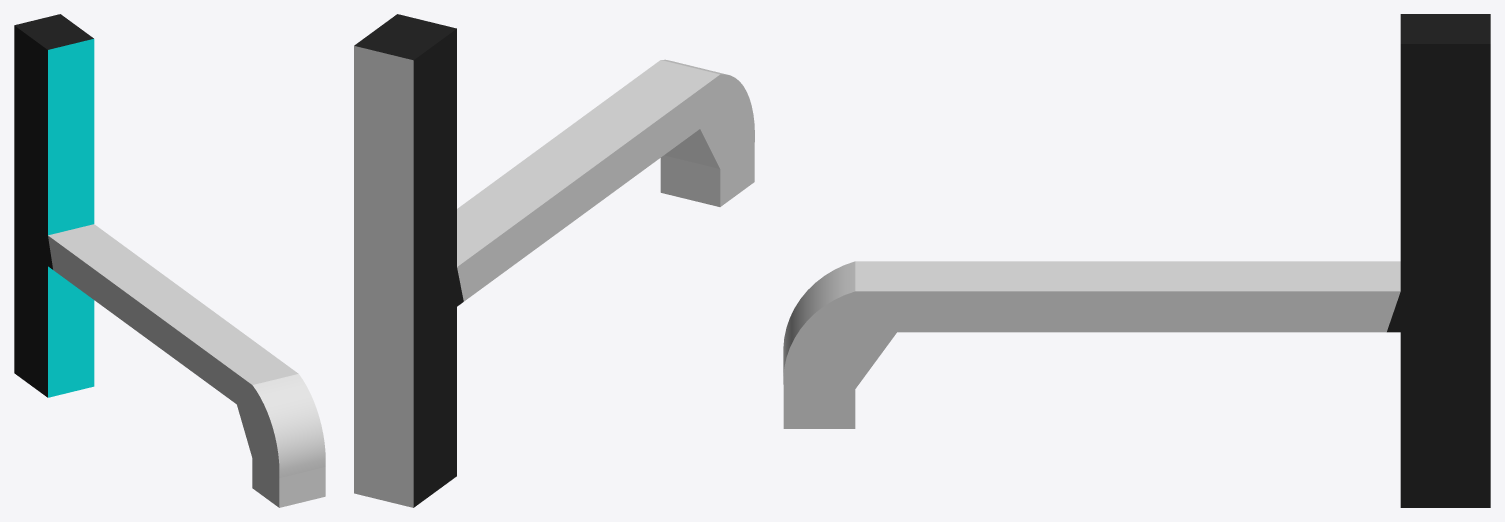
Rendered from WaterDispenser.fbx.
3 renders of one model, left to right at view 1: azimuth 30°, elevation 25°; view 2: azimuth 150°, elevation 25°; view 3: azimuth 270°, elevation 25°, orthographic. The views are drawn at different scales.
Visible parts, largest first — view 1: Group1; view 2: Group1; view 3: Group1.
Boxes of the visible parts, x1,y1,x2,y2 form: Group1: [14, 14, 325, 507]; Group1: [354, 14, 754, 507]; Group1: [783, 14, 1490, 507].
Bounding box in the file's own units: 5.5 × 39.47 × 54.56.
